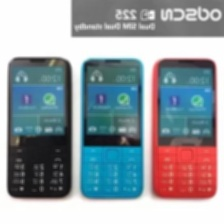phone: (148, 54, 219, 203), (77, 53, 146, 202), (4, 53, 73, 201)
